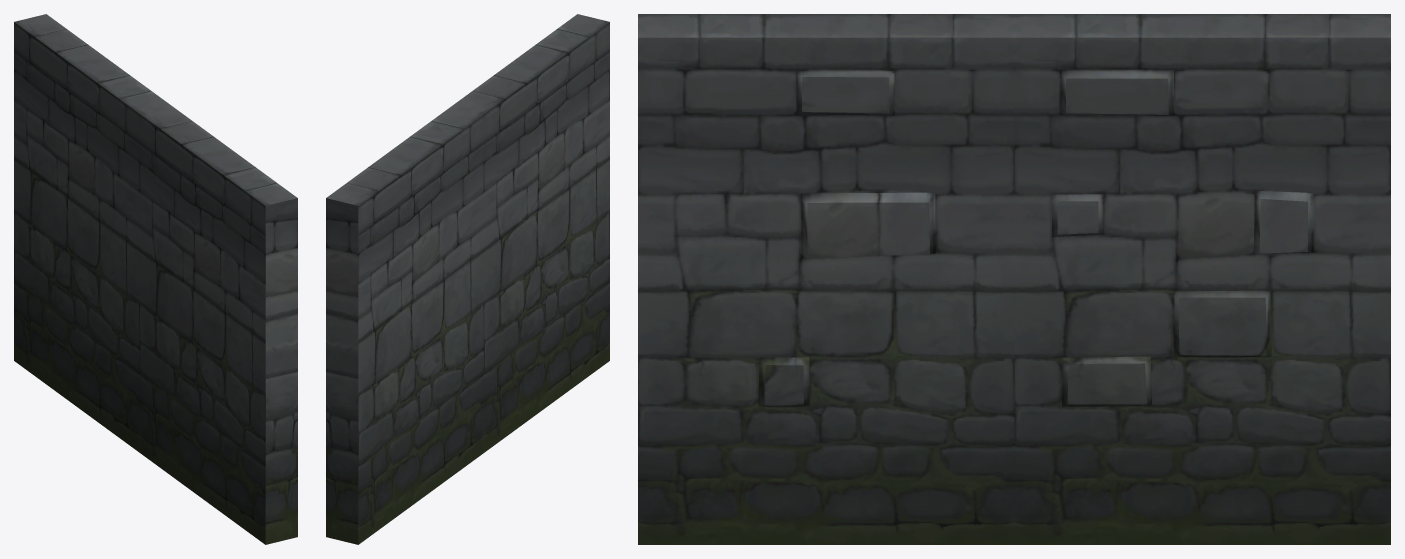
Rendered from castlewall.fbx.
3 views of the same model, side by side, from view 1: azimuth 30°, elevation 25°; view 2: azimuth 150°, elevation 25°; view 3: azimuth 270°, elevation 25° (orthographic). The views are drawn at different scales.
Parts seen in each view (by area): view 1: GEOM0_LOD0; view 2: GEOM0_LOD0; view 3: GEOM0_LOD0.
Boxes of the visible parts, <box> form: GEOM0_LOD0: <box>14,14,297,544</box>; GEOM0_LOD0: <box>326,14,609,544</box>; GEOM0_LOD0: <box>638,14,1390,544</box>.
Size of what is drawn, in the model's own units: 108 by 892 by 1200.
